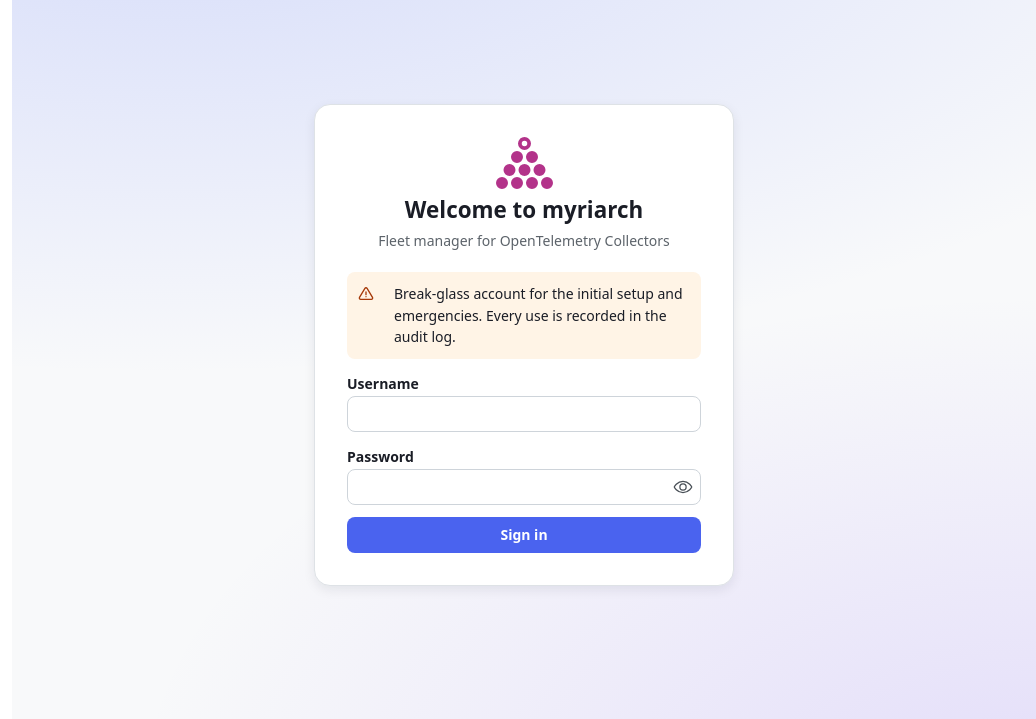
Test case: login page: bootstrap admin › shows the problem message for invalid credentials (401)
Type "unknown-user" into the field labelled "Username" at (524, 414), box [347,396,701,432]
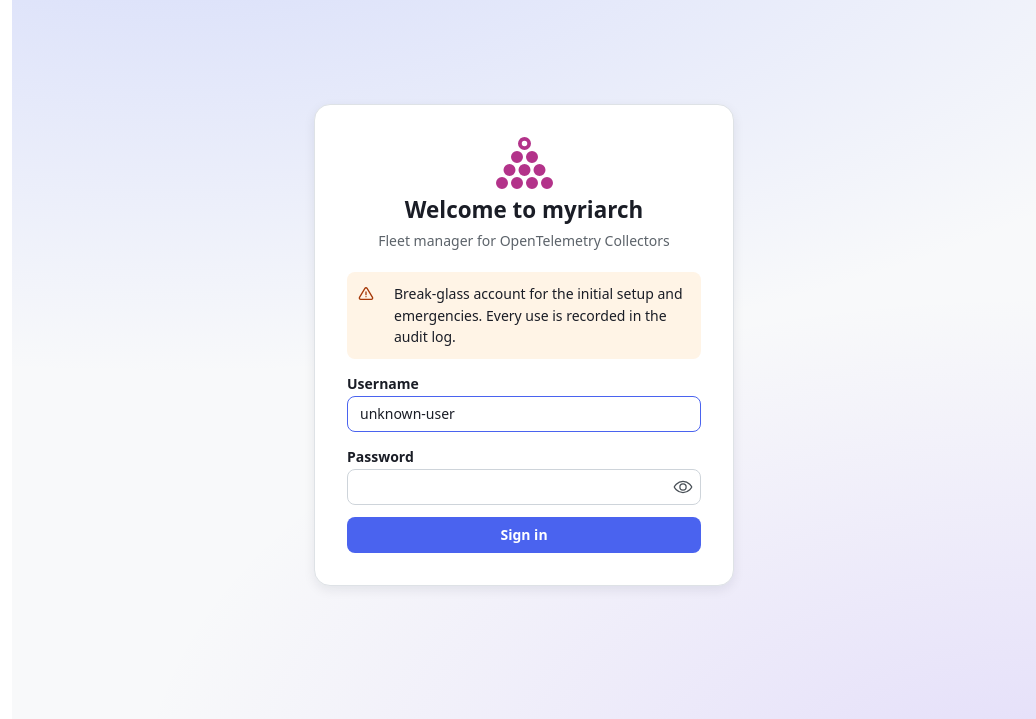
Type "wrong-test-password" into the password field labelled "Password" at (524, 487), box [348,470,700,504]
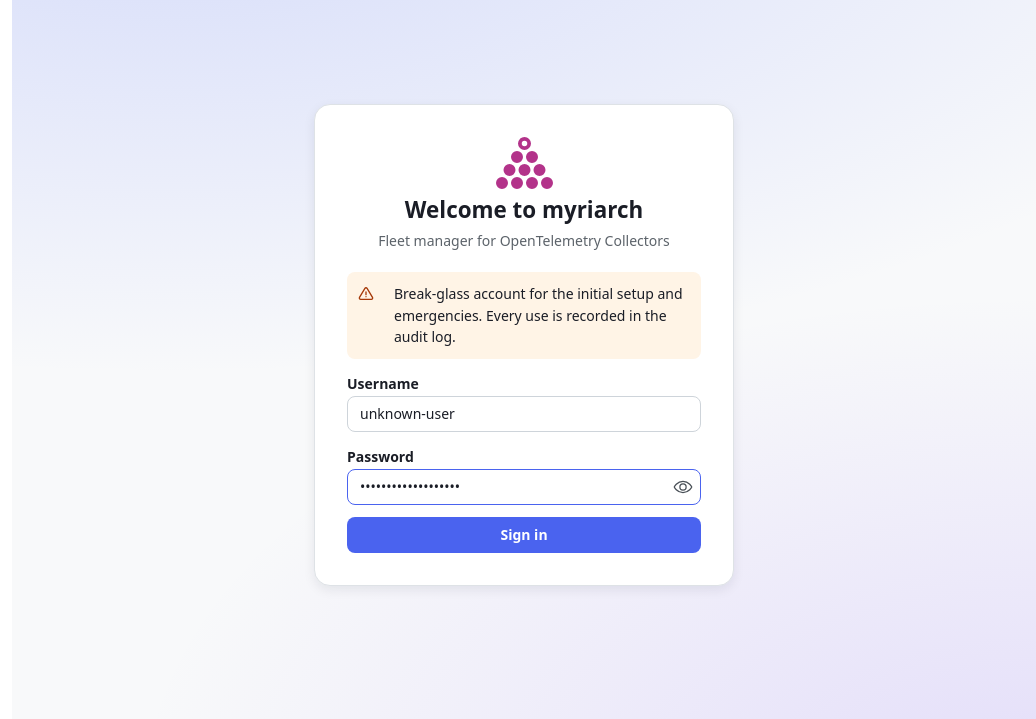
Click the button "Sign in" at (524, 535), box [347,517,701,553]
(page scrolled)
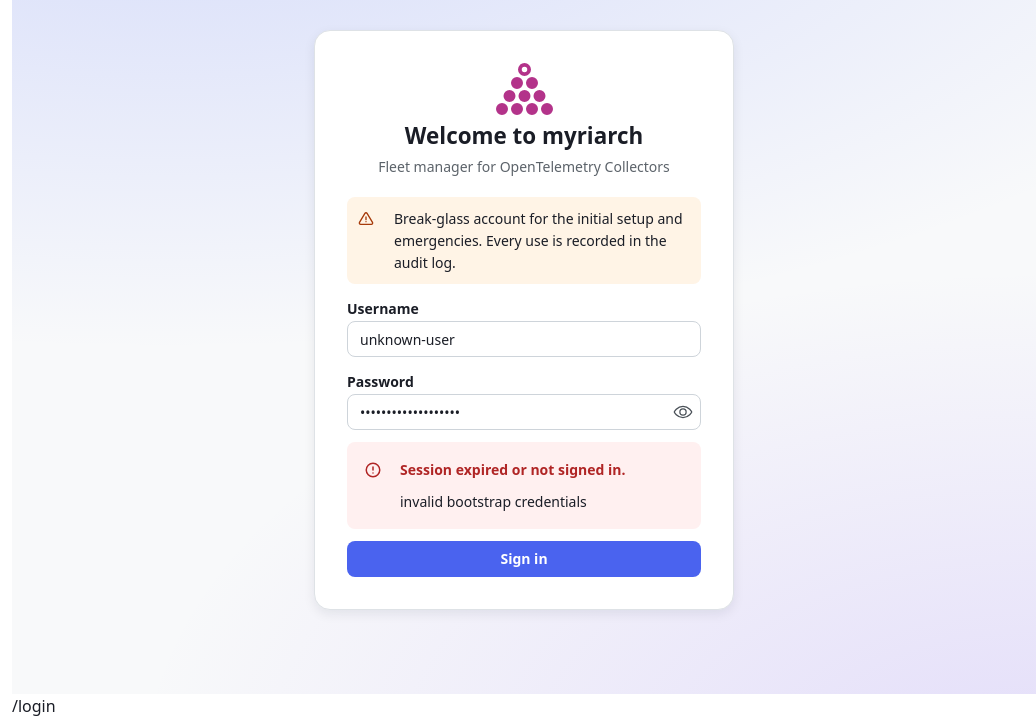
expect the text with test id "location" reads "/login": met, box [12,695,56,717]
expect the text "invalid bootstrap credentials" is shown: met, box [400,492,587,511]
